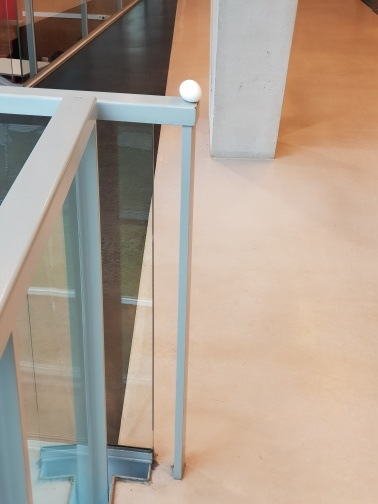egg: (176, 76, 205, 103)
